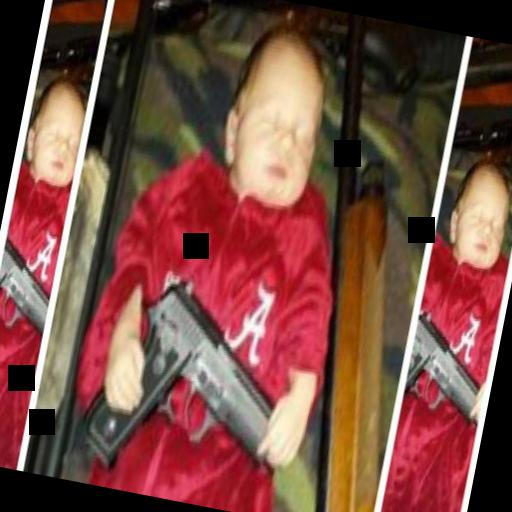Handgun: (66, 262, 309, 494)
